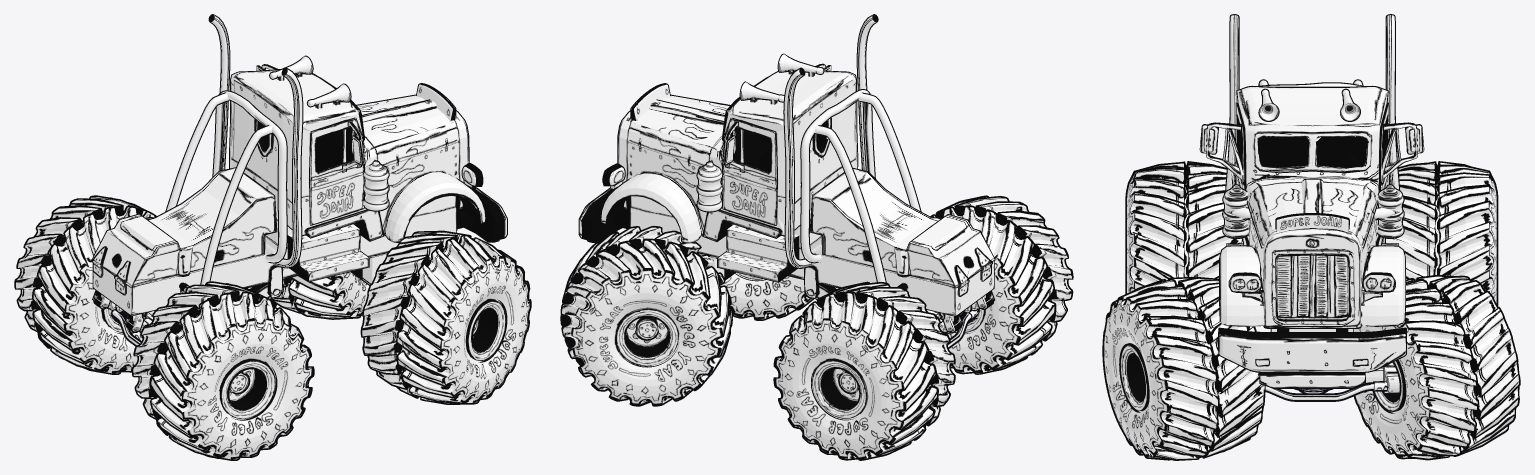
File: monster_truck_coloring_page.glb
3 views of the same model, side by side, from view 1: azimuth 30°, elevation 25°; view 2: azimuth 150°, elevation 25°; view 3: azimuth 270°, elevation 25° (orthographic). The views are drawn at different scales.
Visible parts, largest first — view 1: Plane.080, Circle.007, Circle.004, Circle.005, Circle.006; view 2: Plane.080, Circle.005, Circle.006, Circle.007, Circle.004; view 3: Plane.080, Circle.004, Circle.006, Circle.007, Circle.005.
Boxes of the visible parts, x1=… form: Plane.080: x1=92, y1=14, x2=507, y2=346; Circle.007: x1=131, y1=281, x2=314, y2=460; Circle.004: x1=360, y1=230, x2=531, y2=404; Circle.005: x1=14, y1=195, x2=156, y2=374; Circle.006: x1=271, y1=272, x2=369, y2=319; Plane.080: x1=578, y1=14, x2=995, y2=348; Circle.005: x1=773, y1=281, x2=955, y2=460; Circle.006: x1=560, y1=225, x2=732, y2=406; Circle.007: x1=930, y1=195, x2=1073, y2=374; Circle.004: x1=720, y1=272, x2=814, y2=320; Plane.080: x1=1199, y1=14, x2=1424, y2=401; Circle.004: x1=1102, y1=276, x2=1265, y2=460; Circle.006: x1=1353, y1=274, x2=1520, y2=460; Circle.007: x1=1125, y1=161, x2=1242, y2=293; Circle.005: x1=1382, y1=161, x2=1498, y2=305.
Size of the model in its own units: 4.38 by 3.73 by 3.84.
5 materials, 4 textured.
